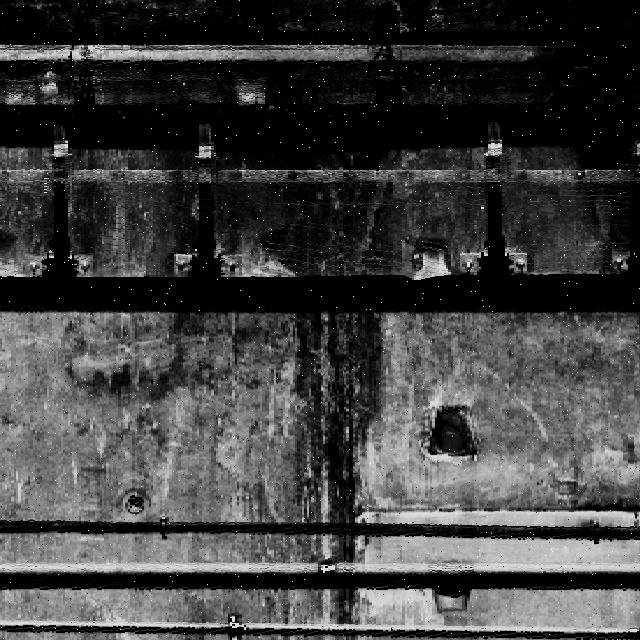leakage: (251, 153, 417, 639)
